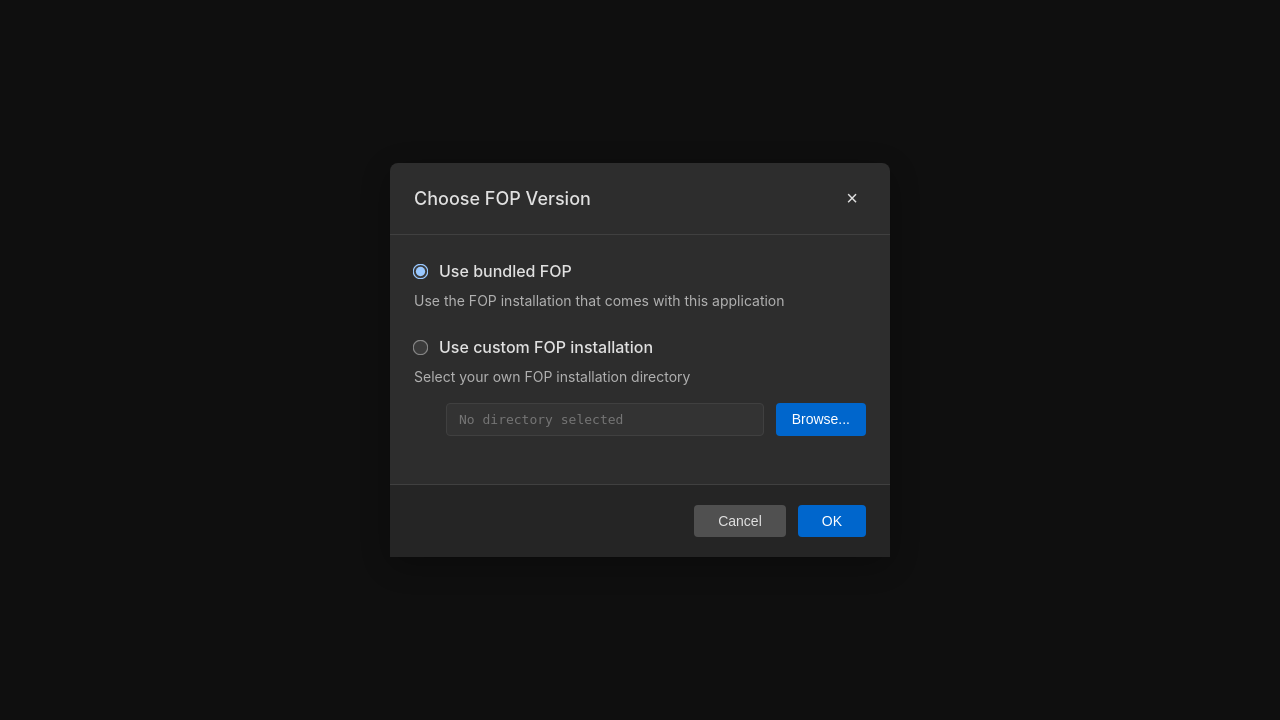
Test: FopSettingsDialog › refuses to switch to custom without a selected directory
What coordinates should you click on to do the following:
click the radio button labelled "Use custom FOP installation"
I would click on:
 (420, 347)
Its box is [413,339,428,355].
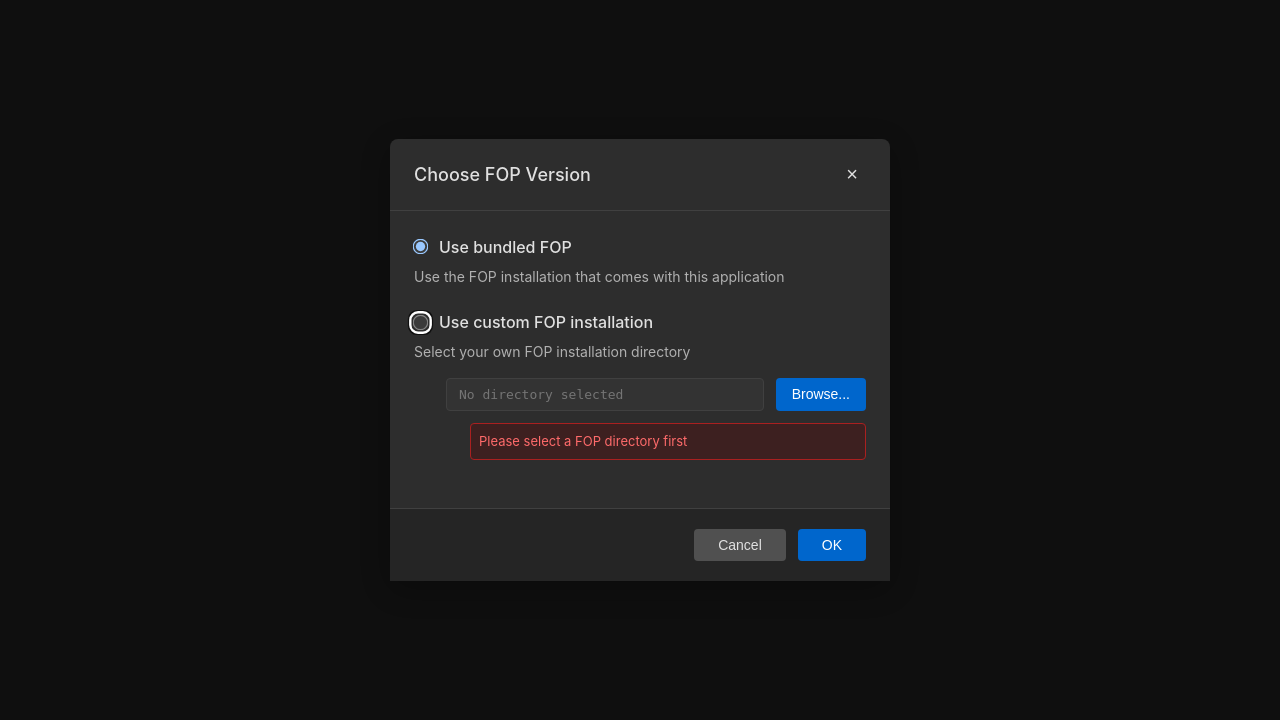
Expected: the radio button labelled "Use bundled FOP" is checked, [413,239,428,254]
Expected: the text "Please select a FOP directory first" is shown, [470,423,866,460]
